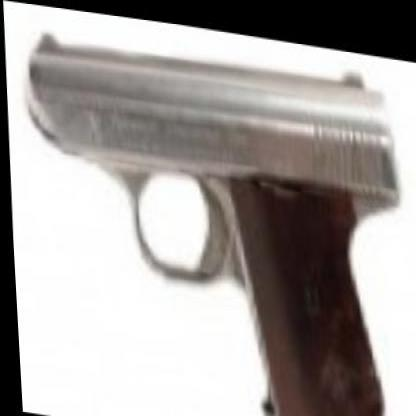pistol: (23, 12, 415, 415)
